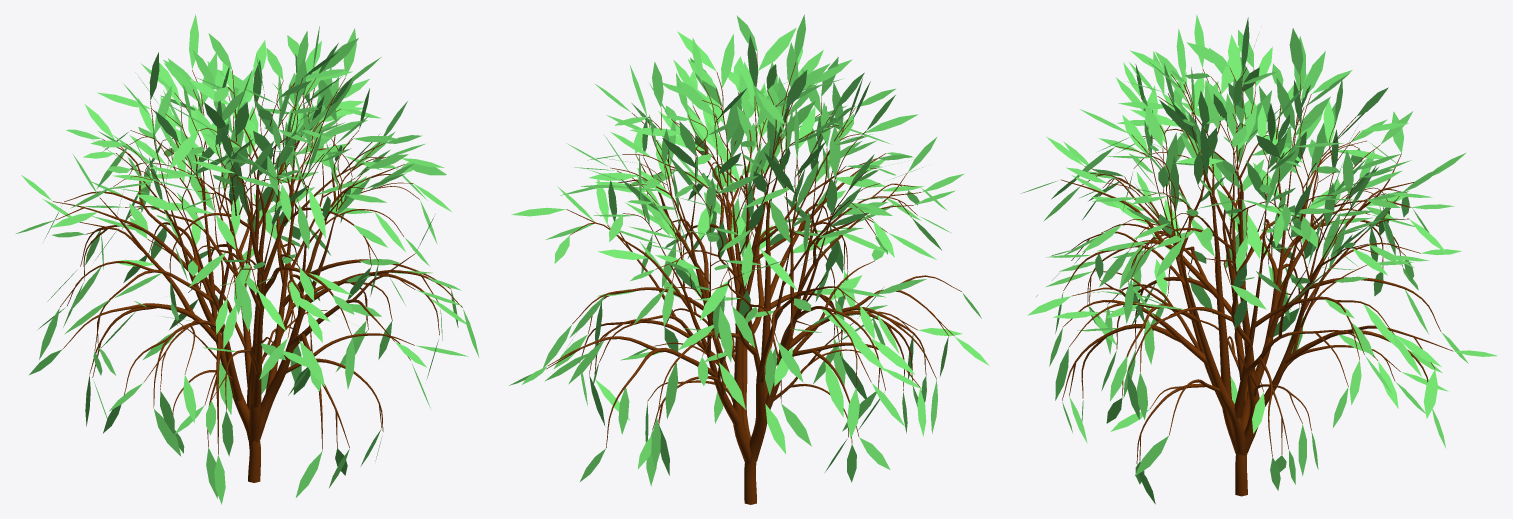
File: tree.fbx
3 renders of one model, left to right at view 1: azimuth 30°, elevation 25°; view 2: azimuth 150°, elevation 25°; view 3: azimuth 270°, elevation 25°, orthographic.
Parts seen in each view (by area): view 1: leaves, tree; view 2: leaves, tree; view 3: leaves, tree.
Part boxes in pixels (x1,y1,x2,y2): leaves: (16,14,479,504); tree: (53,70,462,482); leaves: (509,14,989,486); tree: (546,52,961,504); leaves: (1020,14,1497,504); tree: (1061,67,1453,496).
Size of the model in its own units: 227 by 259 by 249.
